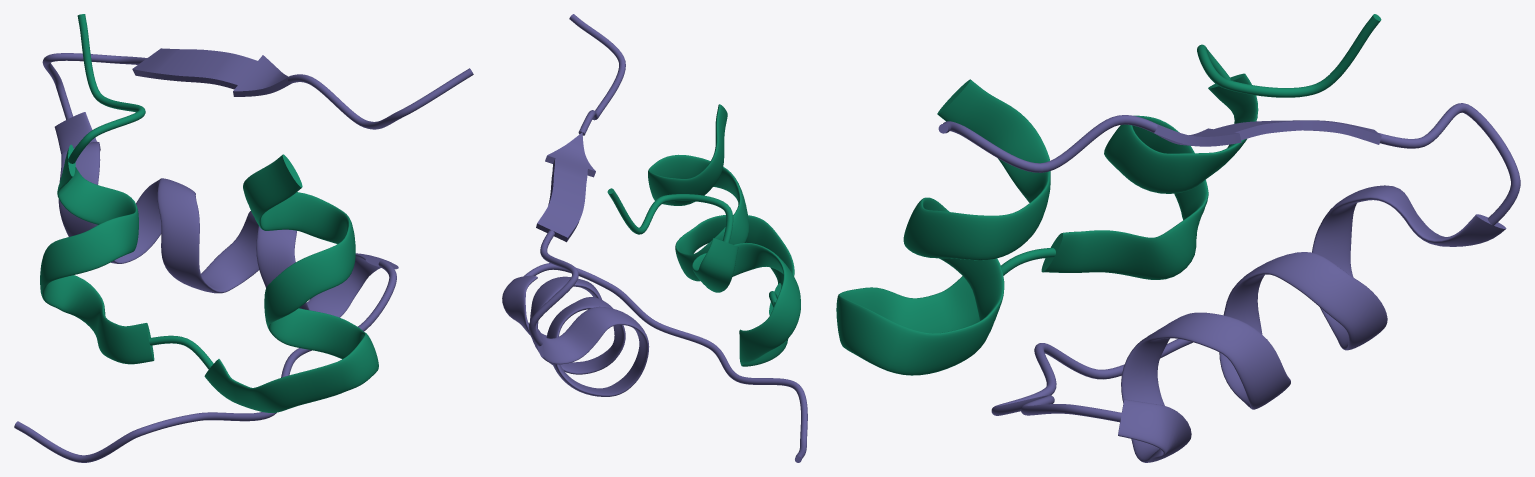
The model's file is 4INS-20250301T203144601Z-5172a0c7.glb.
The picture shows the model from 3 angles, left to right: view 1: azimuth 30°, elevation 25°; view 2: azimuth 150°, elevation 25°; view 3: azimuth 270°, elevation 25°; orthographic projection. The views are drawn at different scales.
Bounding box in the file's own units: 21.32 × 20.52 × 28.03.
